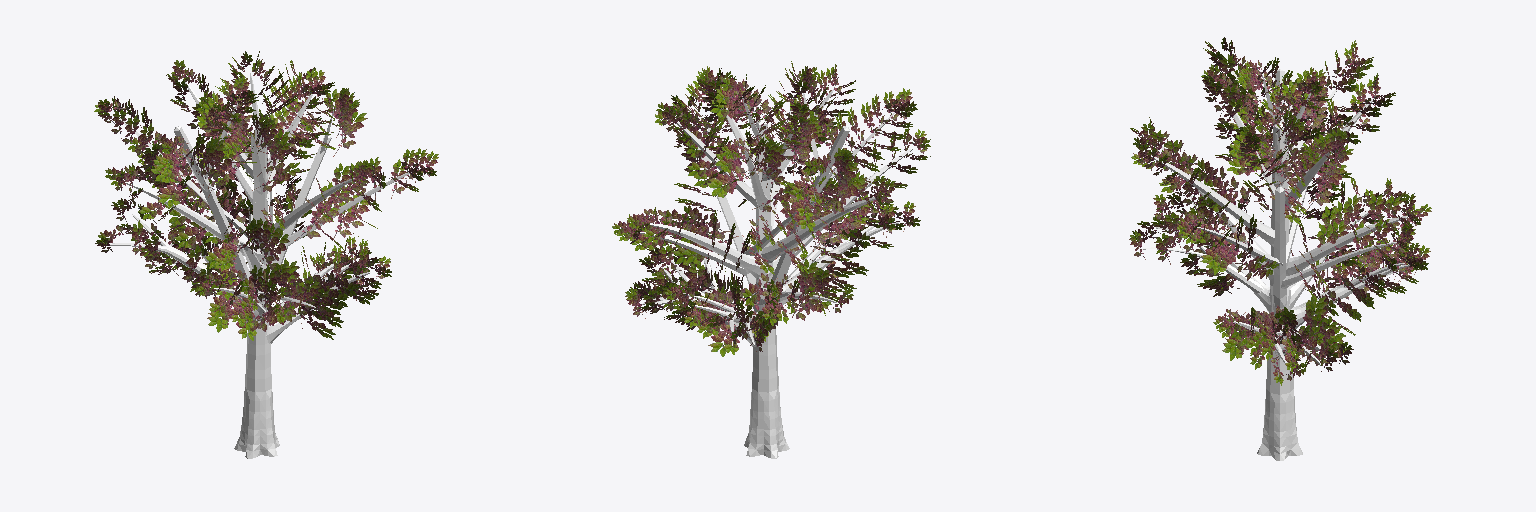
3 renders of one model, left to right at view 1: azimuth 30°, elevation 25°; view 2: azimuth 150°, elevation 25°; view 3: azimuth 270°, elevation 25°, orthographic.
Parts seen in each view (by area): view 1: tree; view 2: tree; view 3: tree.
Boxes of the visible parts, box(x1,y1,x2,y2) form: tree: box(94, 51, 438, 458); tree: box(612, 61, 930, 458); tree: box(1129, 37, 1431, 460).
Bounding box in the file's own units: 455 × 594 × 438.
2 materials, 1 textured.